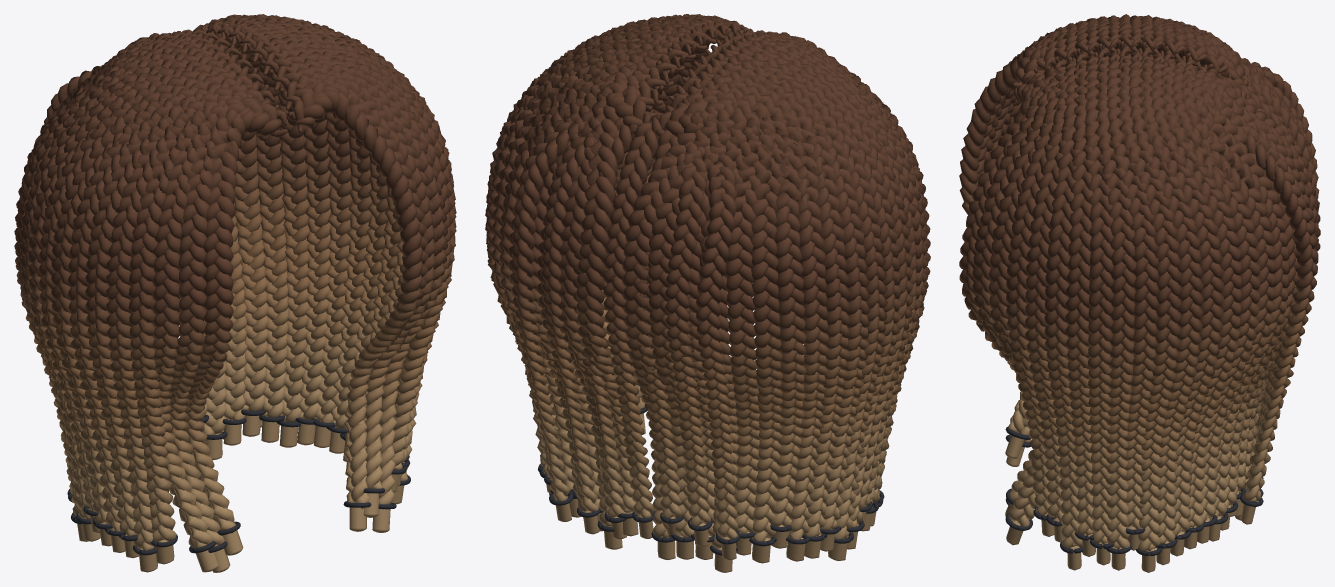
The model's file is Feminine-box-braids-pashmina260-hair-ombre.glb.
3 renders of one model, left to right at view 1: azimuth 30°, elevation 25°; view 2: azimuth 150°, elevation 25°; view 3: azimuth 270°, elevation 25°, orthographic. The views are drawn at different scales.
Parts seen in each view (by area): view 1: 226 hair / Hair / chestnut226.001, 226 hair / Hair / ties226.001; view 2: 226 hair / Hair / chestnut226.001, 226 hair / Hair / ties226.001; view 3: 226 hair / Hair / chestnut226.001, 226 hair / Hair / ties226.001.
Part boxes in pixels (bbox=[...]): 226 hair / Hair / chestnut226.001: bbox=[14, 14, 456, 572]; 226 hair / Hair / ties226.001: bbox=[67, 409, 410, 555]; 226 hair / Hair / chestnut226.001: bbox=[485, 14, 930, 572]; 226 hair / Hair / ties226.001: bbox=[538, 407, 884, 555]; 226 hair / Hair / chestnut226.001: bbox=[959, 14, 1320, 572]; 226 hair / Hair / ties226.001: bbox=[1005, 427, 1263, 556].
Bounding box in the file's own units: 1.07 × 1.23 × 0.8719.
